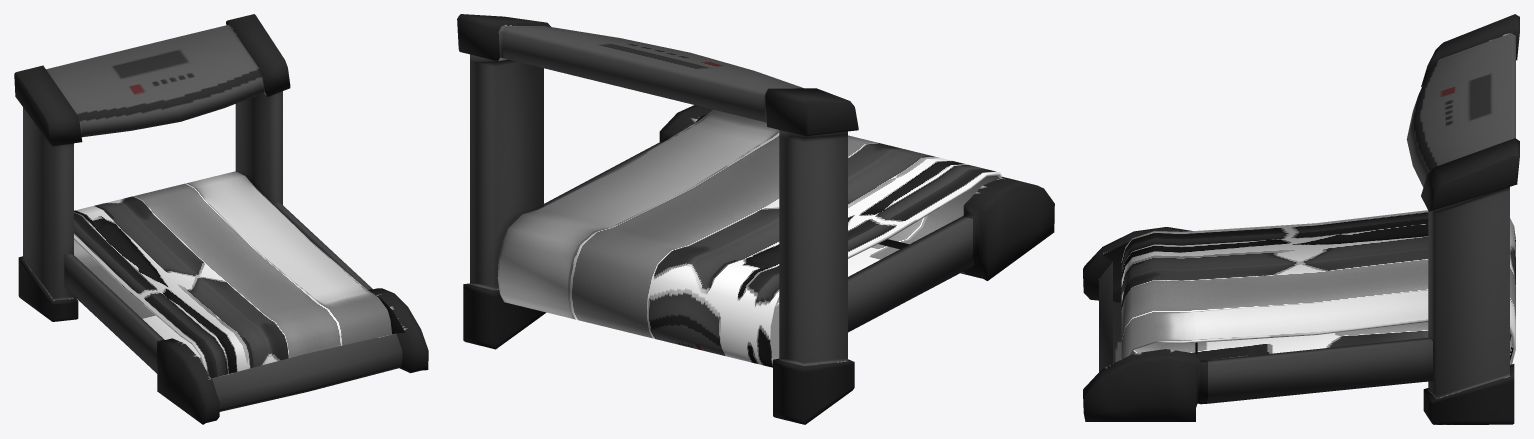
File: esteira2.fbx
The picture shows the model from 3 angles, left to right: view 1: azimuth 30°, elevation 25°; view 2: azimuth 150°, elevation 25°; view 3: azimuth 270°, elevation 25°; orthographic projection. The views are drawn at different scales.
Visible parts, largest first — view 1: maquina, esteira; view 2: maquina, esteira; view 3: maquina, esteira.
Boxes of the visible parts, left/top/right/bottom form: maquina: left=14, top=14, right=428, bottom=424; esteira: left=74, top=171, right=391, bottom=379; maquina: left=457, top=14, right=1054, bottom=424; esteira: left=497, top=109, right=1002, bottom=367; maquina: left=1083, top=14, right=1519, bottom=424; esteira: left=1121, top=210, right=1515, bottom=381.
Bounding box in the file's own units: 136 × 122 × 177.
